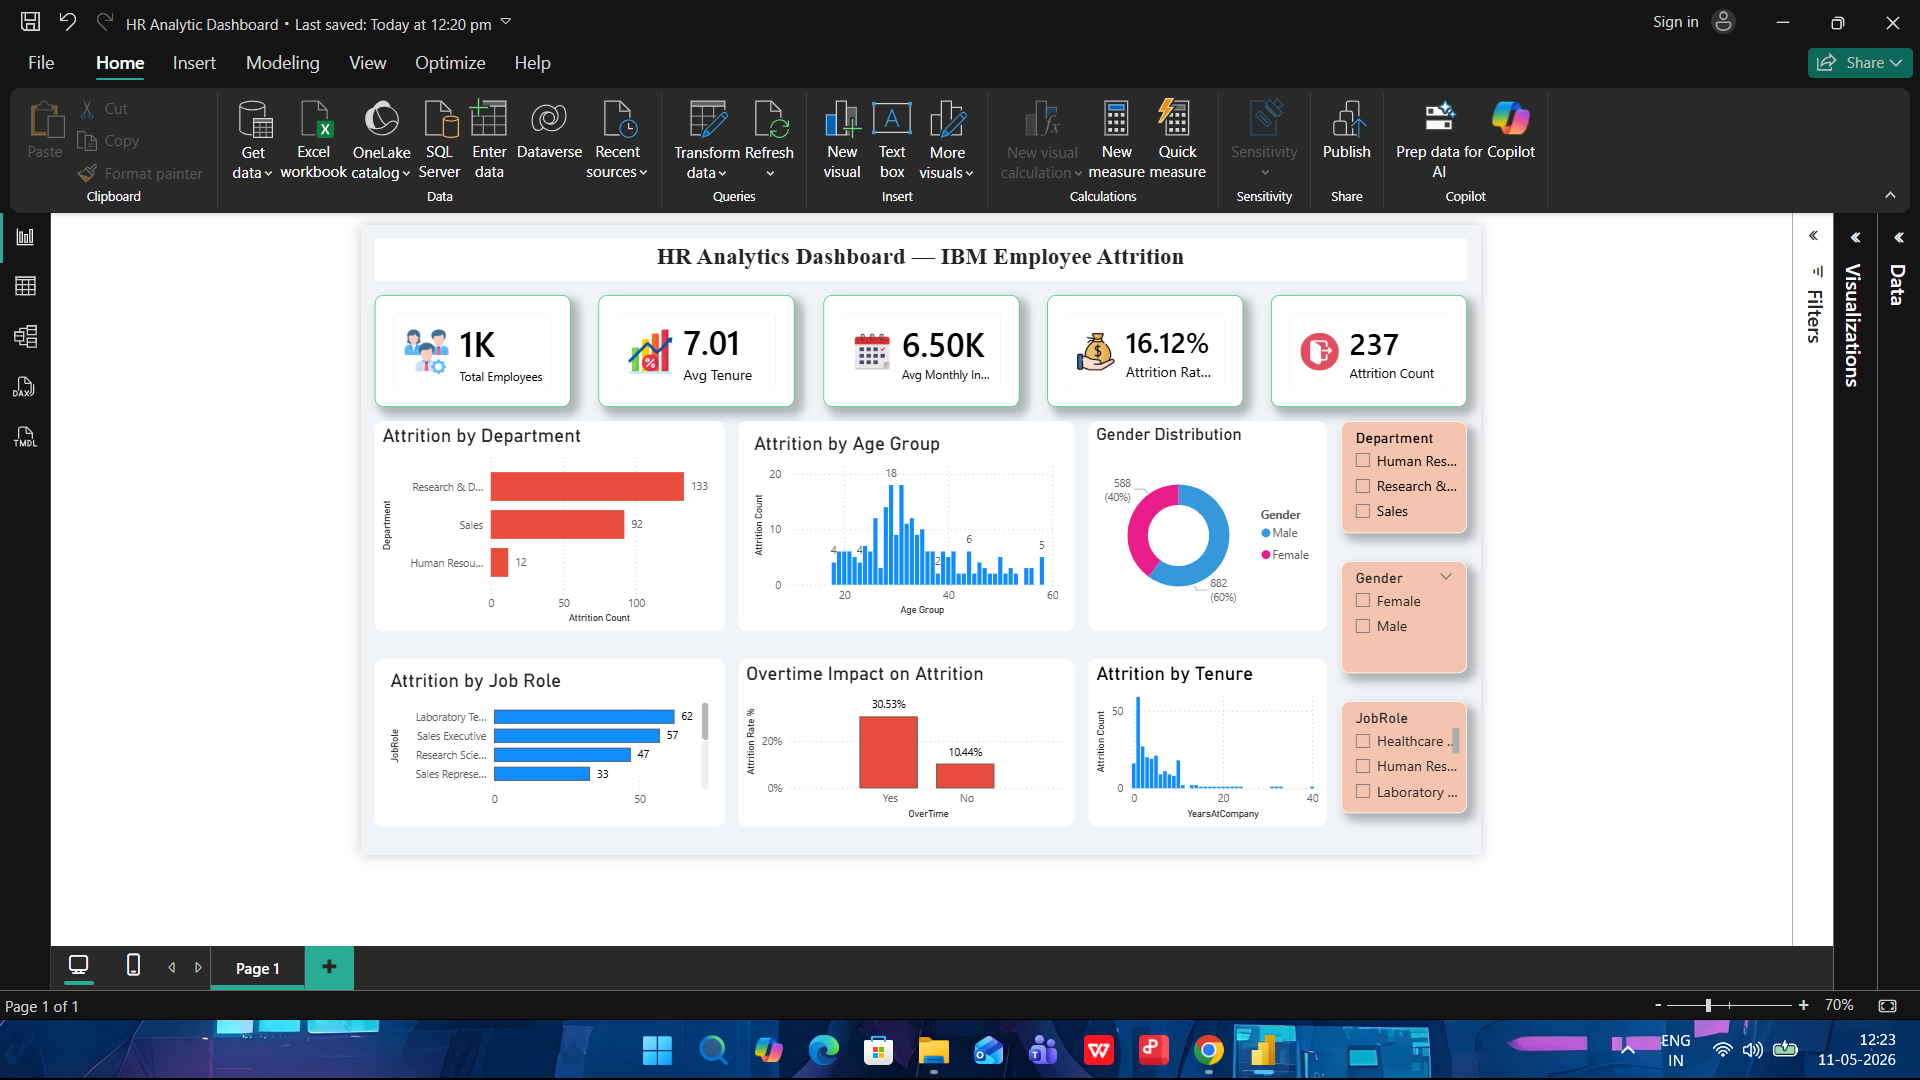

The page's visual inventory and layout, read from the dashboard file:
{"tool":"powerbi","page":{"name":"Page 1","canvas":[1280,720],"ordinal":0},"visuals":[{"type":"textbox","box":[16,16,1248,48],"z":0},{"type":"cardVisual","fields":{"Data":["WA_Fn-UseC_-HR-Employee-Attrition.Attrition Count"]},"box":[1040,80,224,128],"z":1000},{"type":"cardVisual","fields":{"Data":["WA_Fn-UseC_-HR-Employee-Attrition.Attrition Rate %"]},"box":[784,80,224,128],"z":2000},{"type":"cardVisual","title":"Avg Monthly Income","fields":{"Data":["WA_Fn-UseC_-HR-Employee-Attrition.Avg Monthly Income"]},"box":[528,80,224,128],"z":3000},{"type":"cardVisual","fields":{"Data":["WA_Fn-UseC_-HR-Employee-Attrition.Avg Tenure"]},"box":[272,80,224,128],"z":4000},{"type":"cardVisual","fields":{"Data":["WA_Fn-UseC_-HR-Employee-Attrition.Total Employees"]},"box":[16,80,224,128],"z":5000},{"type":"slicer","fields":{"Values":["WA_Fn-UseC_-HR-Employee-Attrition.Department"]},"box":[1120,224,144,128],"z":6000},{"type":"slicer","fields":{"Values":["WA_Fn-UseC_-HR-Employee-Attrition.Gender"]},"box":[1120,384,144,128],"z":7000},{"type":"slicer","fields":{"Values":["WA_Fn-UseC_-HR-Employee-Attrition.JobRole"]},"box":[1120,544,144,128],"z":8000},{"type":"clusteredBarChart","title":"Attrition by Department","fields":{"Category":["WA_Fn-UseC_-HR-Employee-Attrition.Department"],"Y":["WA_Fn-UseC_-HR-Employee-Attrition.Attrition Count"]},"box":[16,224,400,240],"z":9000},{"type":"clusteredColumnChart","title":"Attrition by Age Group","fields":{"Y":["WA_Fn-UseC_-HR-Employee-Attrition.Attrition Count"],"Category":["WA_Fn-UseC_-HR-Employee-Attrition.Age (bins)"]},"box":[432,224,384,240],"z":10000},{"type":"donutChart","title":"Gender Distribution","fields":{"Category":["WA_Fn-UseC_-HR-Employee-Attrition.Gender"],"Y":["WA_Fn-UseC_-HR-Employee-Attrition.Total Employees"]},"box":[832,224,272,240],"z":11000},{"type":"clusteredBarChart","title":"Attrition by Job Role","fields":{"Category":["WA_Fn-UseC_-HR-Employee-Attrition.JobRole"],"Y":["WA_Fn-UseC_-HR-Employee-Attrition.Attrition Count"]},"box":[16,496,400,192],"z":12000},{"type":"clusteredColumnChart","title":"Overtime Impact on Attrition","fields":{"Category":["WA_Fn-UseC_-HR-Employee-Attrition.OverTime"],"Y":["WA_Fn-UseC_-HR-Employee-Attrition.Attrition Rate %"]},"box":[432,496,384,192],"z":13000},{"type":"clusteredColumnChart","title":"Attrition by Tenure","fields":{"Category":["WA_Fn-UseC_-HR-Employee-Attrition.YearsAtCompany"],"Y":["WA_Fn-UseC_-HR-Employee-Attrition.Attrition Count"]},"box":[832,496,272,192],"z":14000}]}

Visuals, with their boxes on the page's 1280x720 design canvas (x1, y1, x2, y2). These are canvas units, not pixel positions in the 1920x1080 screenshot, which may show the page scaled, cropped or inside an application window:
textbox: rect(16, 16, 1264, 64)
cardVisual - WA_Fn-UseC_-HR-Employee-Attrition.Attrition Count: rect(1040, 80, 1264, 208)
cardVisual - WA_Fn-UseC_-HR-Employee-Attrition.Attrition Rate %: rect(784, 80, 1008, 208)
"Avg Monthly Income" cardVisual: rect(528, 80, 752, 208)
cardVisual - WA_Fn-UseC_-HR-Employee-Attrition.Avg Tenure: rect(272, 80, 496, 208)
cardVisual - WA_Fn-UseC_-HR-Employee-Attrition.Total Employees: rect(16, 80, 240, 208)
slicer - WA_Fn-UseC_-HR-Employee-Attrition.Department: rect(1120, 224, 1264, 352)
slicer - WA_Fn-UseC_-HR-Employee-Attrition.Gender: rect(1120, 384, 1264, 512)
slicer - WA_Fn-UseC_-HR-Employee-Attrition.JobRole: rect(1120, 544, 1264, 672)
"Attrition by Department" clusteredBarChart: rect(16, 224, 416, 464)
"Attrition by Age Group" clusteredColumnChart: rect(432, 224, 816, 464)
"Gender Distribution" donutChart: rect(832, 224, 1104, 464)
"Attrition by Job Role" clusteredBarChart: rect(16, 496, 416, 688)
"Overtime Impact on Attrition" clusteredColumnChart: rect(432, 496, 816, 688)
"Attrition by Tenure" clusteredColumnChart: rect(832, 496, 1104, 688)
